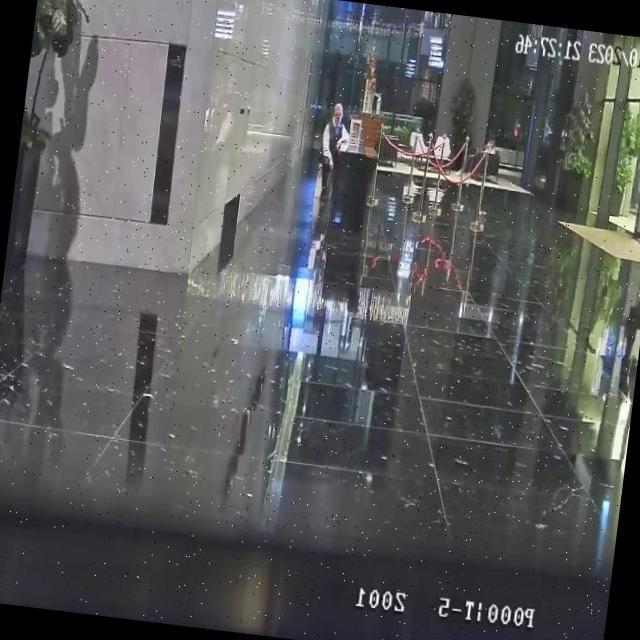person: (314, 99, 353, 205), (454, 131, 496, 182)
